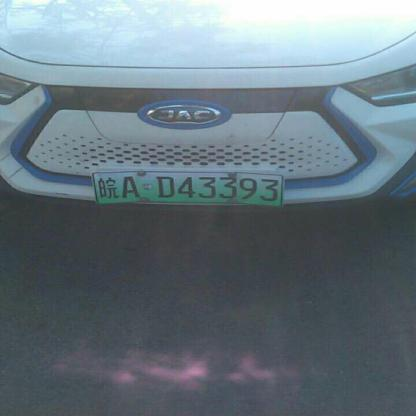lp: (94, 172, 282, 205)
